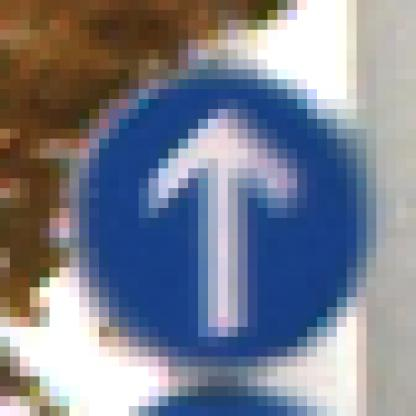AheadOnly: (61, 61, 358, 368)
